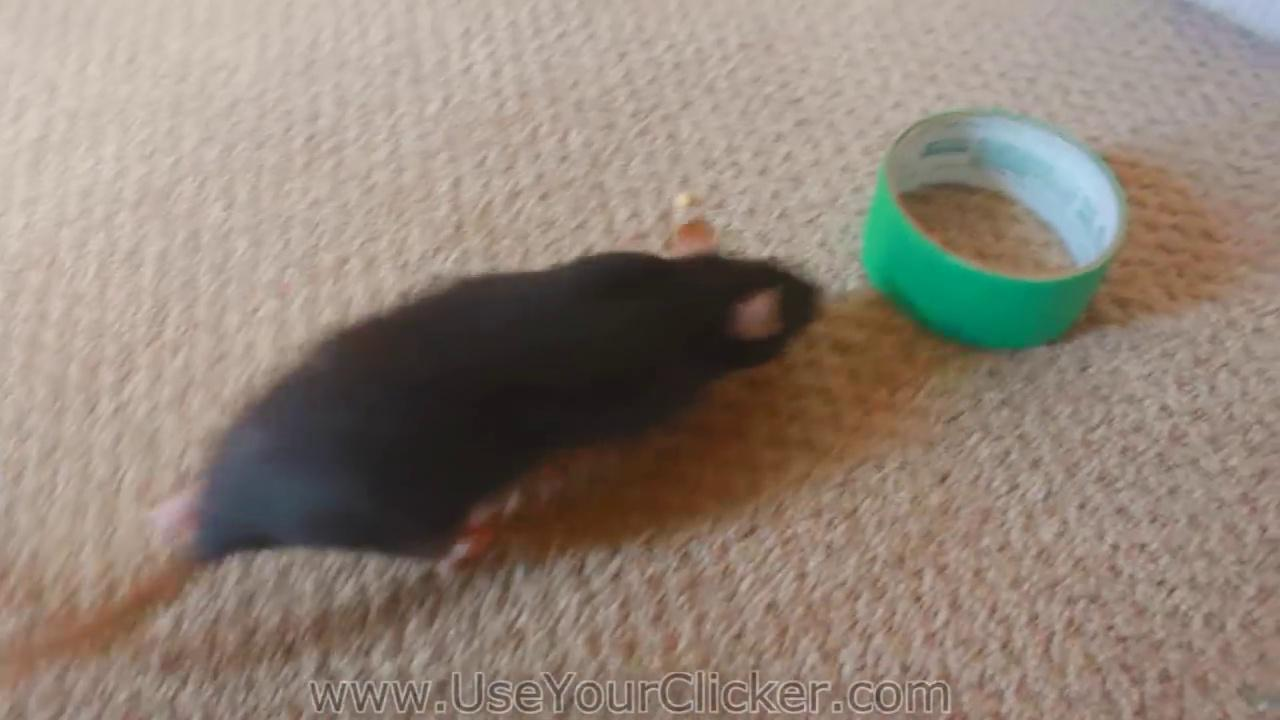rat: (0, 219, 825, 677)
